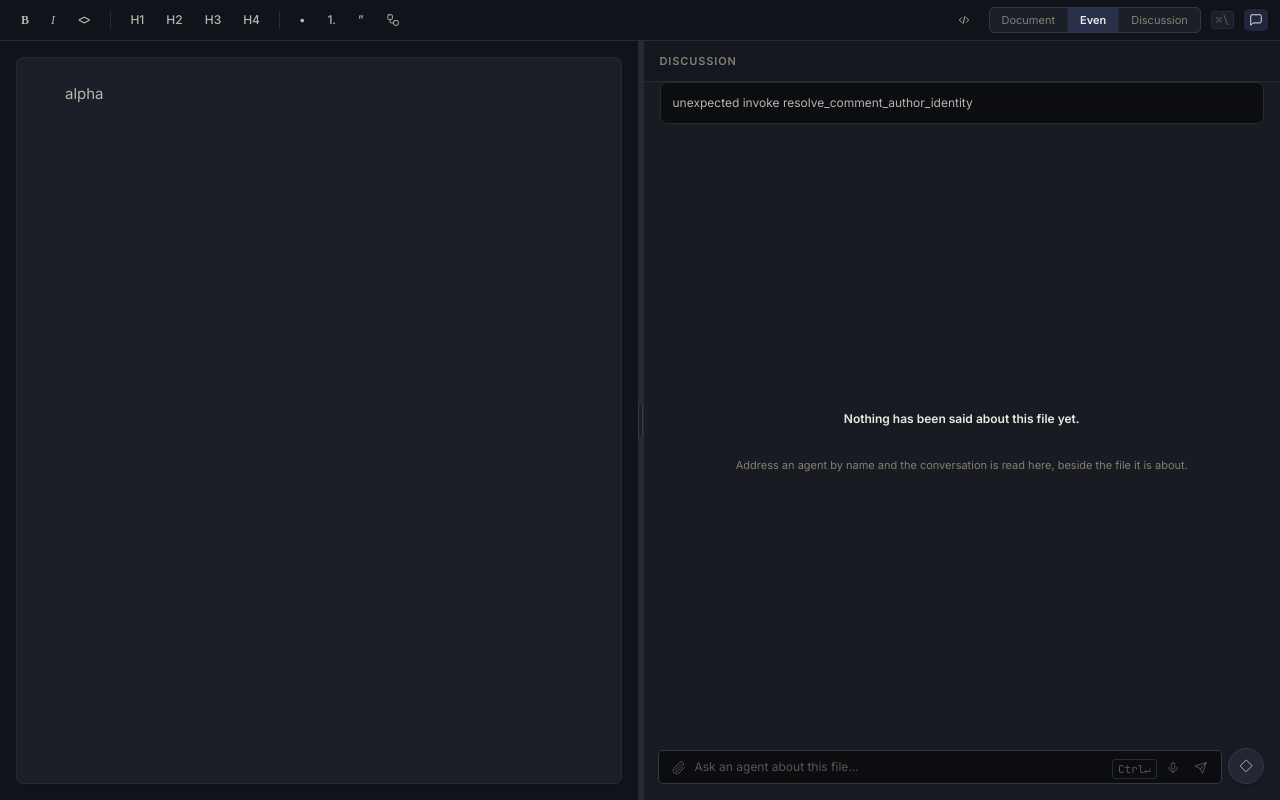
Scenario: matching the in-memory buffer (EFR-FR-DKQT) › does not switch the editing mode when the panel opens
Click the button named "Edit as Markdown source" at (964, 20), box top-left (948, 6), bottom-right (978, 34)
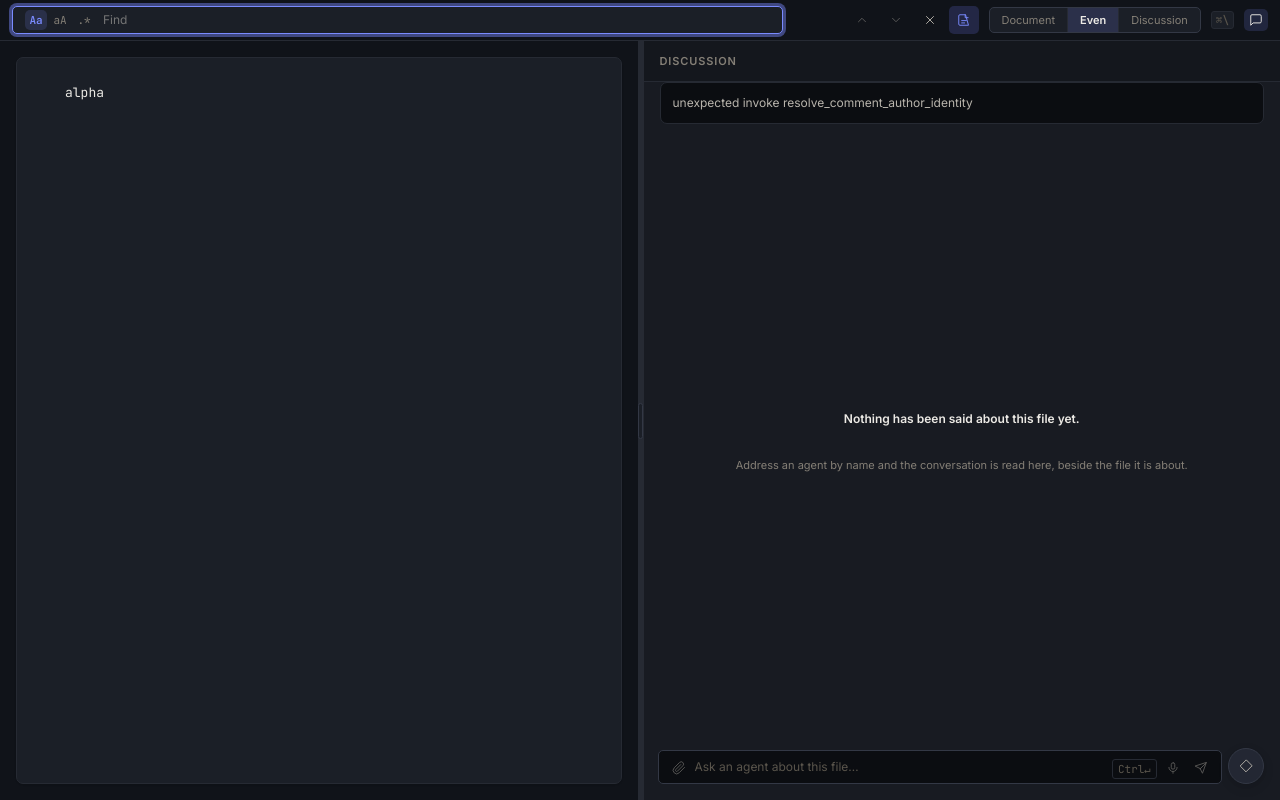
Check: the text box named "Markdown source" is shown, box top-left (17, 58), bottom-right (620, 783)
